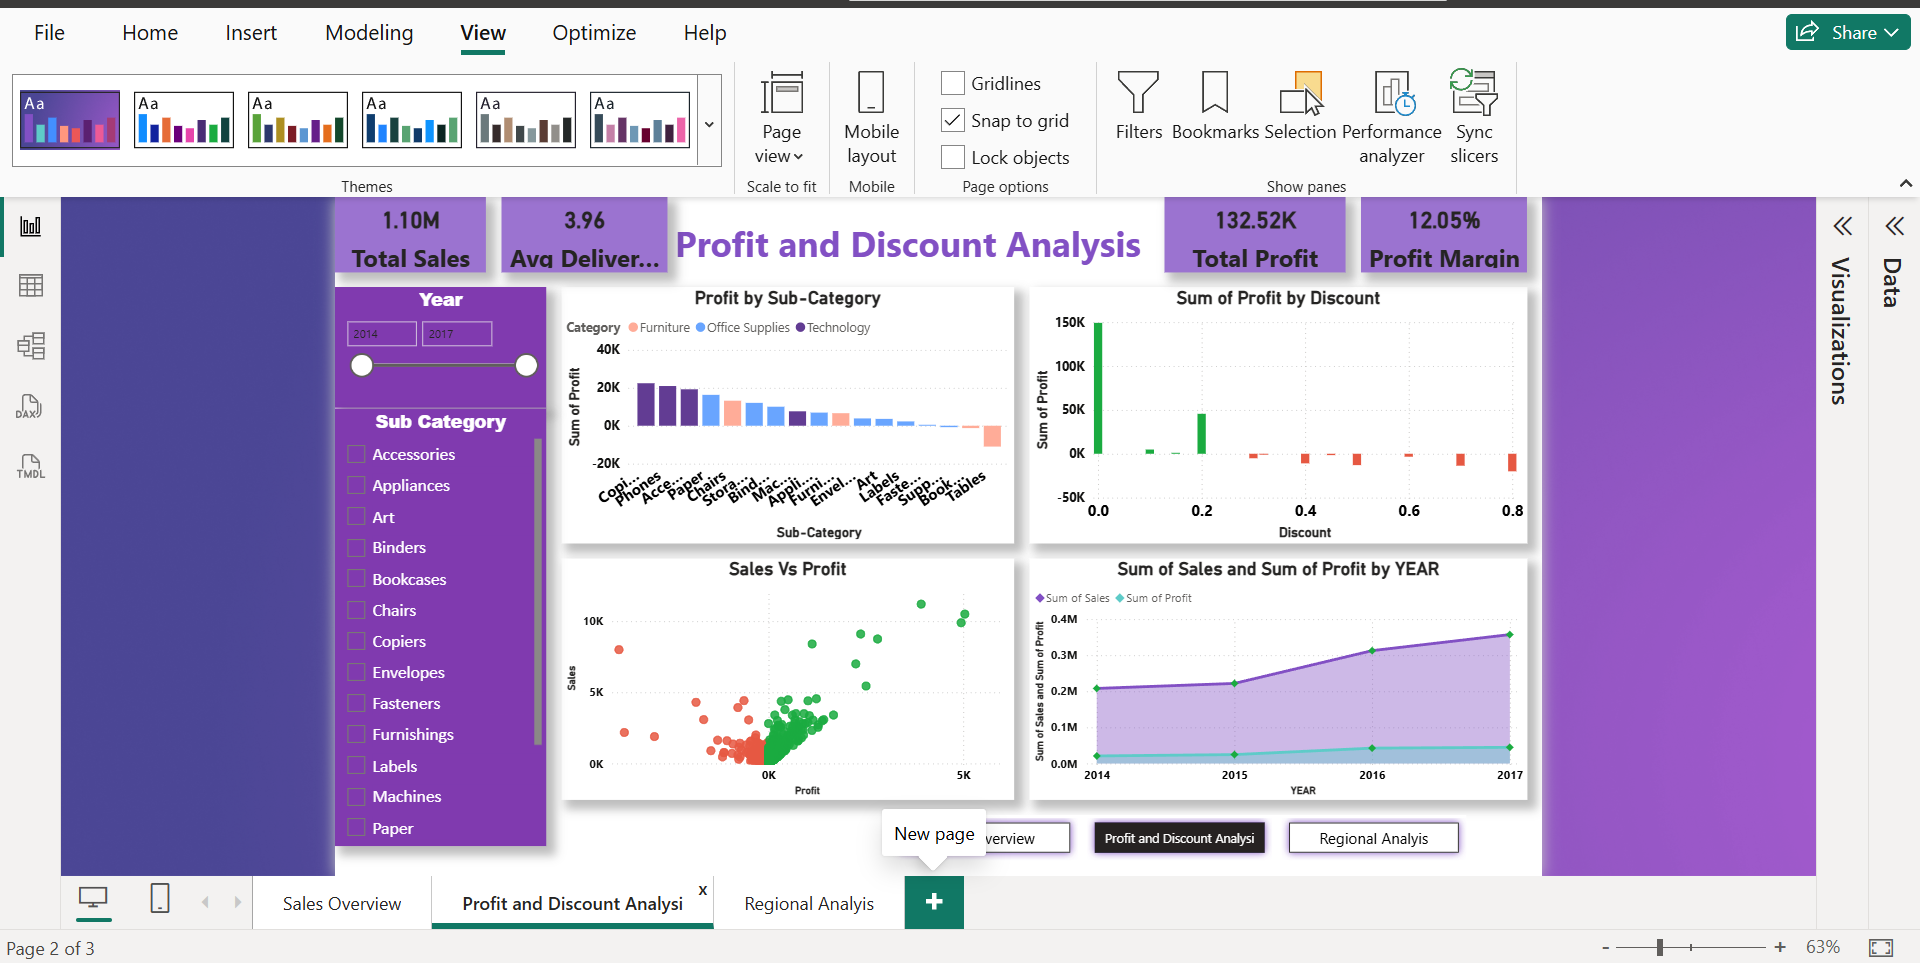

The page's visual inventory and layout, read from the dashboard file:
{"tool":"powerbi","page":{"name":"Profit and Discount Analysis","canvas":[1280,720],"ordinal":1},"visuals":[{"type":"columnChart","title":"Profit by Sub-Category ","fields":{"Category":["Dim_Product.Sub-Category"],"Y":["Sum(SuperStore_Sales.Profit)"],"Series":["SuperStore_Sales.Category"]},"box":[240,96,480,272],"z":0},{"type":"scatterChart","title":"Sales Vs Profit","fields":{"X":["Sum(SuperStore_Sales.Profit)"],"Y":["Sum(SuperStore_Sales.Sales)"]},"box":[240,384,480,256],"z":1000},{"type":"columnChart","fields":{"Category":["SuperStore_Sales.Discount"],"Y":["Sum(SuperStore_Sales.Profit)"]},"box":[736,96,528,272],"z":2000},{"type":"lineChart","fields":{"Category":["Date Table.YEAR"],"Y":["Sum(SuperStore_Sales.Sales)","Sum(SuperStore_Sales.Profit)"]},"box":[736,384,528,256],"z":3000},{"type":"textbox","box":[336,0,544,80],"z":4000},{"type":"pageNavigator","box":[592,656,608,48],"z":5000},{"type":"card","fields":{"Values":["SuperStore_Sales.Total Sales"]},"box":[0,0,160,80],"z":6000},{"type":"card","fields":{"Values":["SuperStore_Sales.Avg Delivery Days"]},"box":[176,0,176,80],"z":7000},{"type":"card","fields":{"Values":["SuperStore_Sales.Total Profit"]},"box":[880,0,192,80],"z":8000},{"type":"card","fields":{"Values":["SuperStore_Sales.Profit Margin"]},"box":[1088,0,176,80],"z":9000},{"type":"slicer","title":"Year","fields":{"Values":["Date Table.Date.Variation.Date Hierarchy.Year"]},"box":[0,96,224,128],"z":10000},{"type":"slicer","title":"Sub Category","fields":{"Values":["Dim_Product.Sub-Category"]},"box":[0,224,224,464],"z":11000}]}

Visuals, with their boxes on the page's 1280x720 design canvas (x1, y1, x2, y2). These are canvas units, not pixel positions in the 1920x963 screenshot, which may show the page scaled, cropped or inside an application window:
"Profit by Sub-Category " columnChart: [x1=240, y1=96, x2=720, y2=368]
"Sales Vs Profit" scatterChart: [x1=240, y1=384, x2=720, y2=640]
columnChart - SuperStore_Sales.Discount x Sum(SuperStore_Sales.Profit): [x1=736, y1=96, x2=1264, y2=368]
lineChart - Date Table.YEAR x Sum(SuperStore_Sales.Sales): [x1=736, y1=384, x2=1264, y2=640]
textbox: [x1=336, y1=0, x2=880, y2=80]
pageNavigator: [x1=592, y1=656, x2=1200, y2=704]
card - SuperStore_Sales.Total Sales: [x1=0, y1=0, x2=160, y2=80]
card - SuperStore_Sales.Avg Delivery Days: [x1=176, y1=0, x2=352, y2=80]
card - SuperStore_Sales.Total Profit: [x1=880, y1=0, x2=1072, y2=80]
card - SuperStore_Sales.Profit Margin: [x1=1088, y1=0, x2=1264, y2=80]
"Year" slicer: [x1=0, y1=96, x2=224, y2=224]
"Sub Category" slicer: [x1=0, y1=224, x2=224, y2=688]
